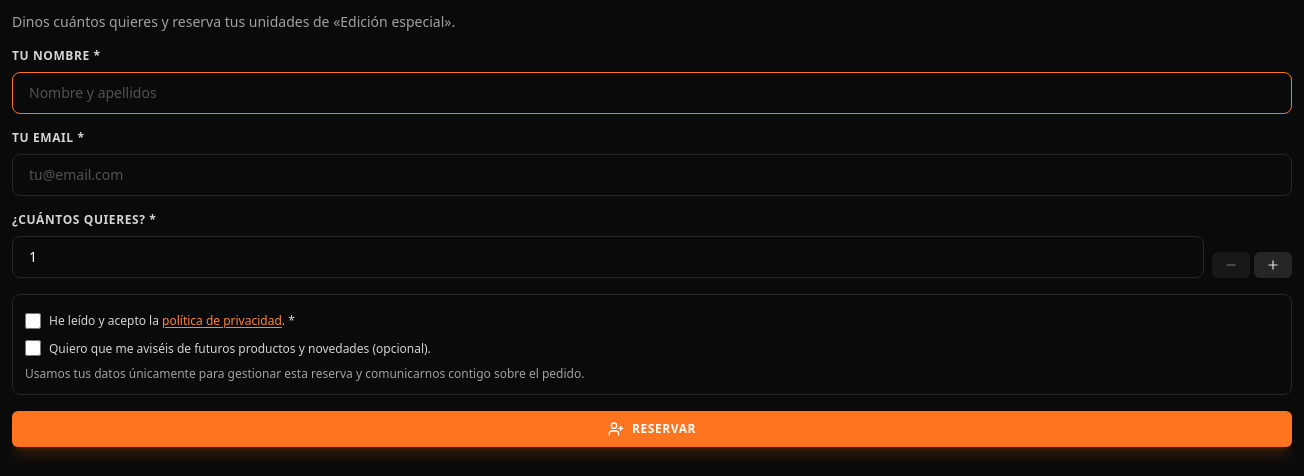
WorkshopSignupForm · unidades en especiales › envía la cantidad elegida en una edición especial
Type "Ana" into the field labelled "Tu nombre *" at (652, 93), box [12,72,1292,114]
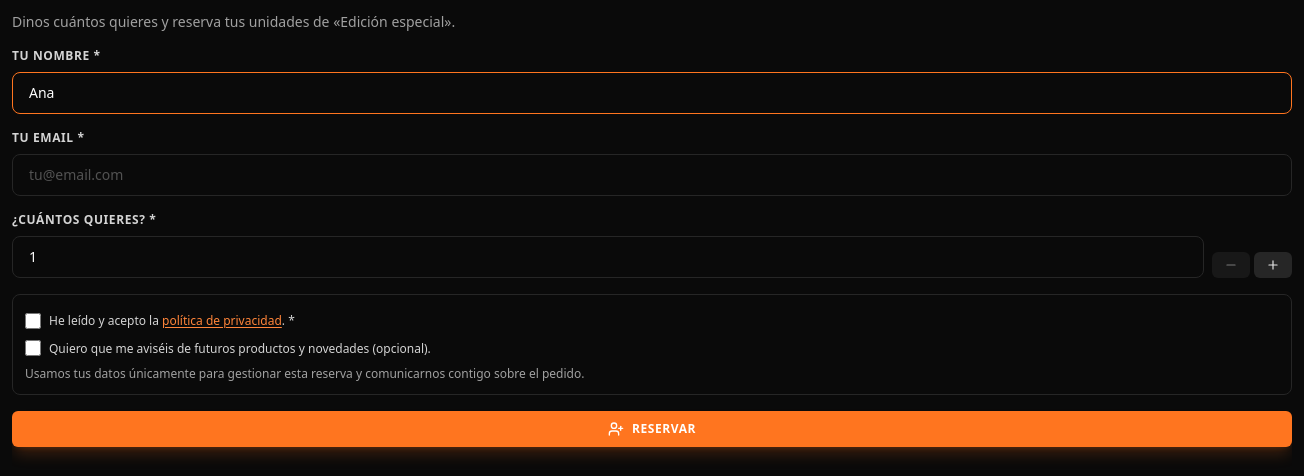
Type "ana@example.com" into the field labelled "Tu email *" at (652, 175), box [12,154,1292,196]
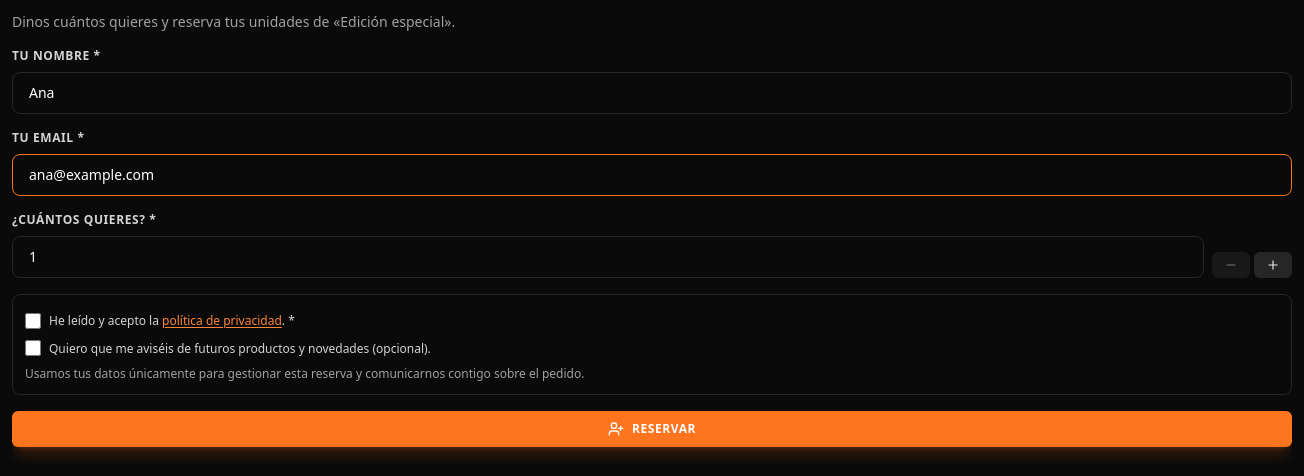
Replace the text in the number field labelled "¿Cuántos quieres? *" with "3" at (608, 257), box [12,236,1204,278]
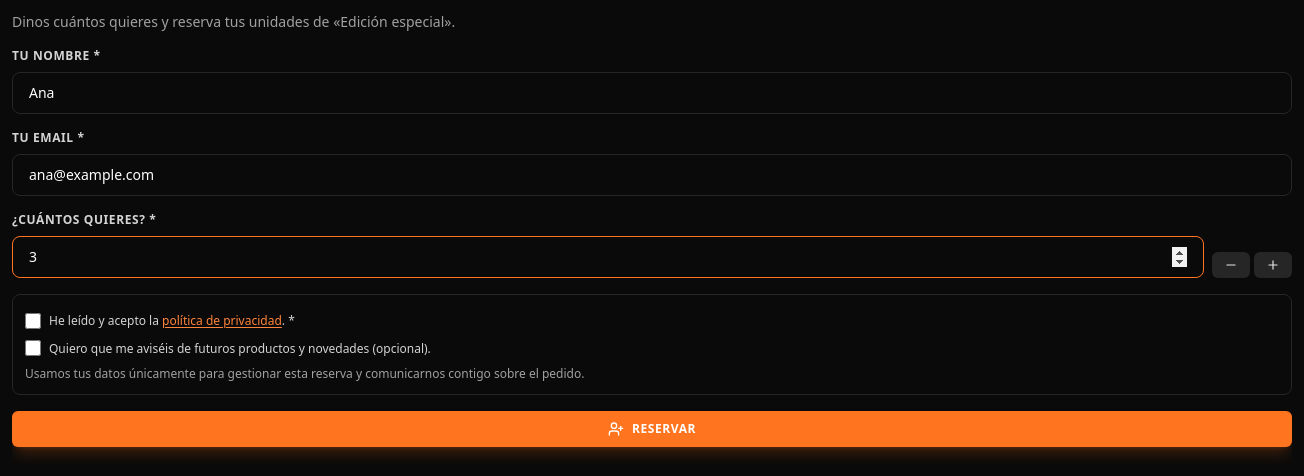
Click the checkbox labelled "He leído y acepto la política de privacidad . *" at (33, 321), box [25,313,41,329]
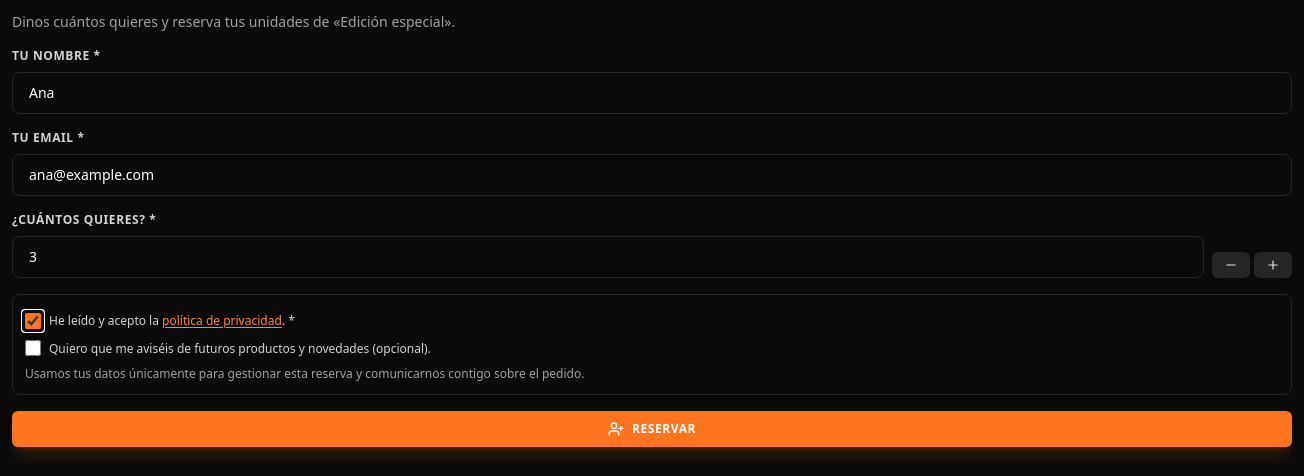
Click the button "Reservar" at (652, 429), box [12,411,1292,447]
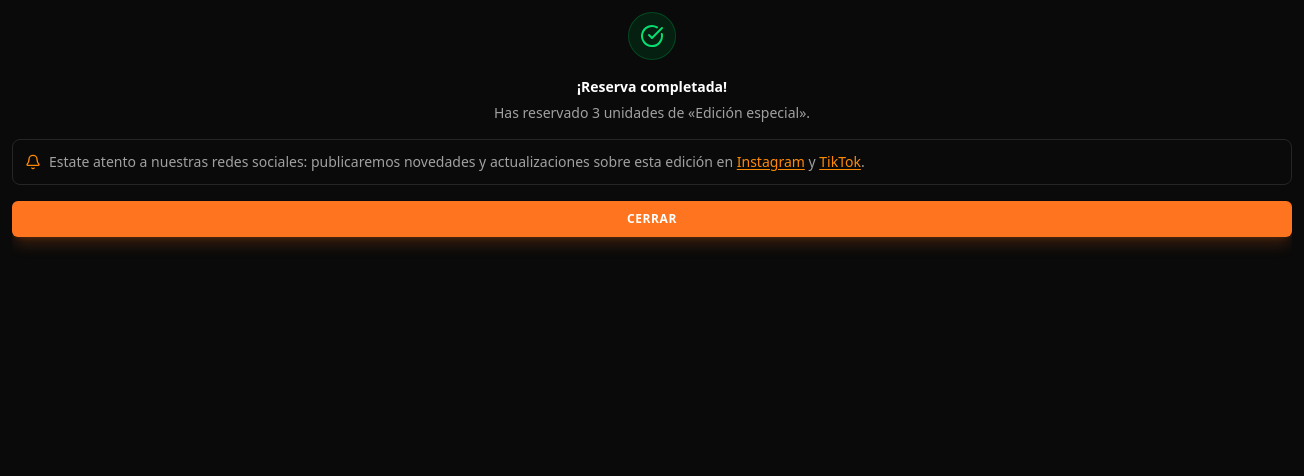
Now the text "¡Reserva completada!" is shown, box [577,77,727,96]
